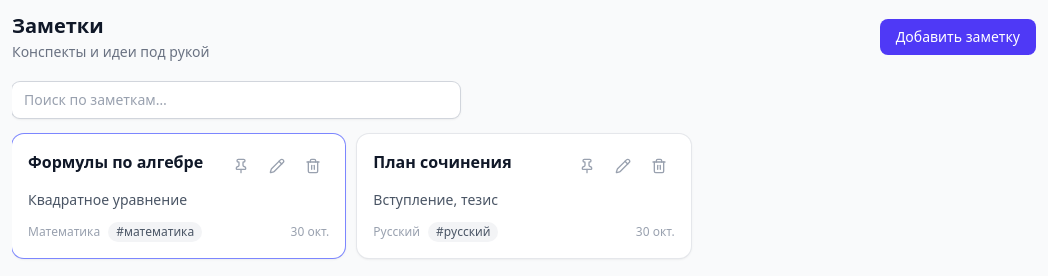
Test: NotesPage › searches by title
The image size is (1048, 276).
Type "сочинения" into the field with placeholder "Поиск по заметкам…". click: coordinates (236, 100)
box: [12,82,460,118]
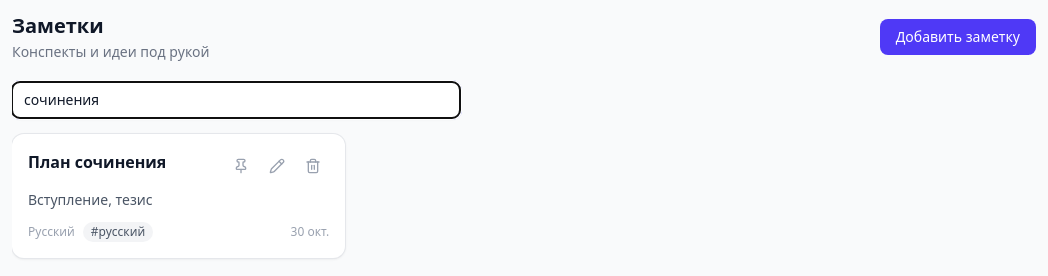
expect the heading "План сочинения" is shown: met, box [28,150,166,174]
expect the heading "Формулы по алгебре" is gone: met
